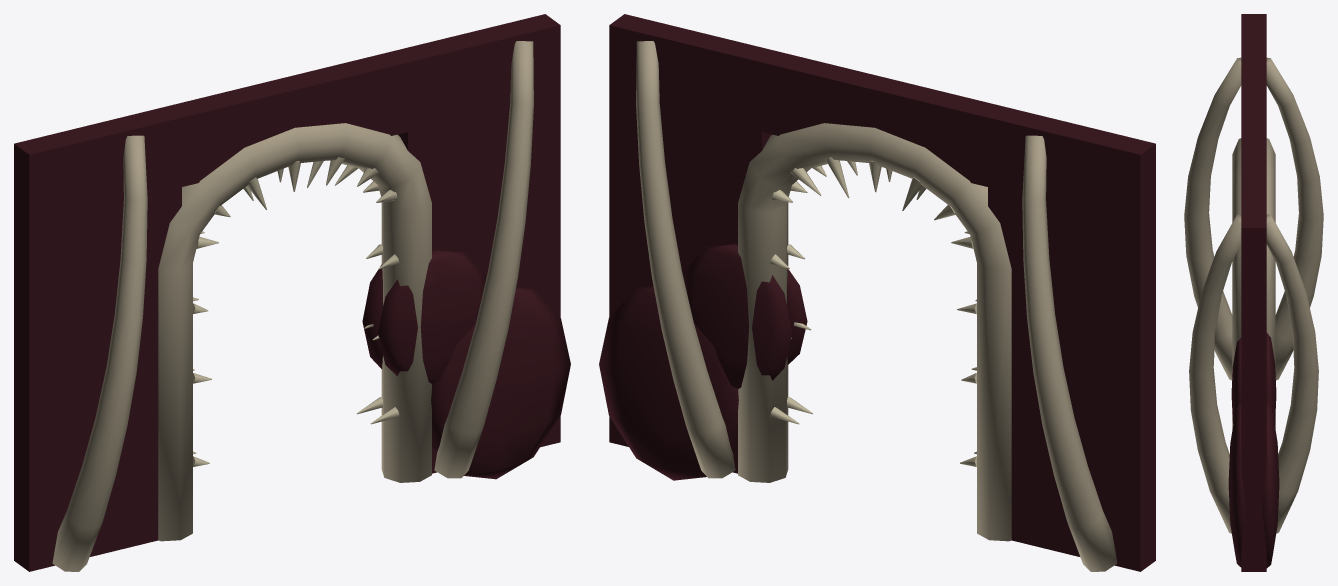
The model's file is SM_Arch_Rib.fbx.
3 views of the same model, side by side, from view 1: azimuth 30°, elevation 25°; view 2: azimuth 150°, elevation 25°; view 3: azimuth 270°, elevation 25° (orthographic). The views are drawn at different scales.
Parts seen in each view (by area): view 1: SM_Arch_Rib; view 2: SM_Arch_Rib; view 3: SM_Arch_Rib.
Part boxes in pixels (x1,y1,x2,y2): SM_Arch_Rib: [14, 14, 570, 571]; SM_Arch_Rib: [599, 14, 1155, 571]; SM_Arch_Rib: [1184, 14, 1323, 571].
Size of what is drawn, in the model's own units: 4.08 by 3.16 by 1.1.
